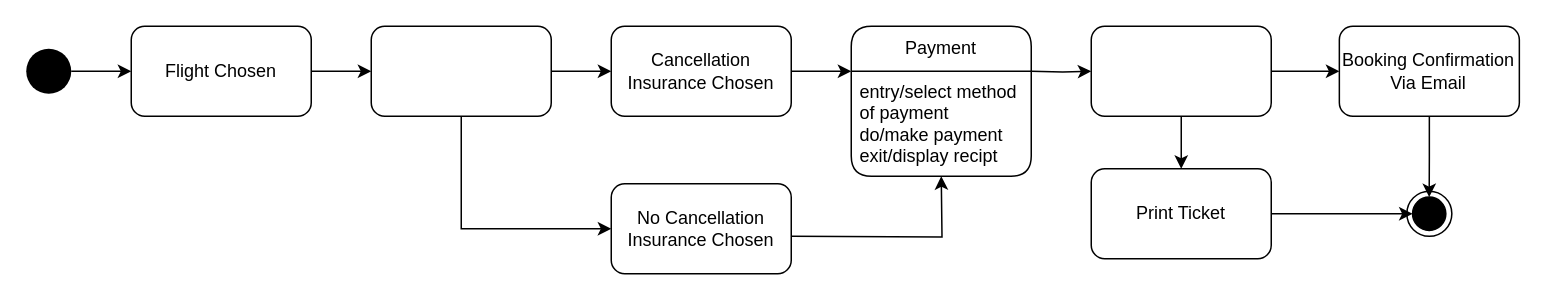
This 1545x300 diagram has some shape labels left out. The centre of each missing label's shape, as x and y in pixels:
"Seat Chosen" goes at (x=460, y=70).
"Ticket Generated" goes at (x=1180, y=70).
